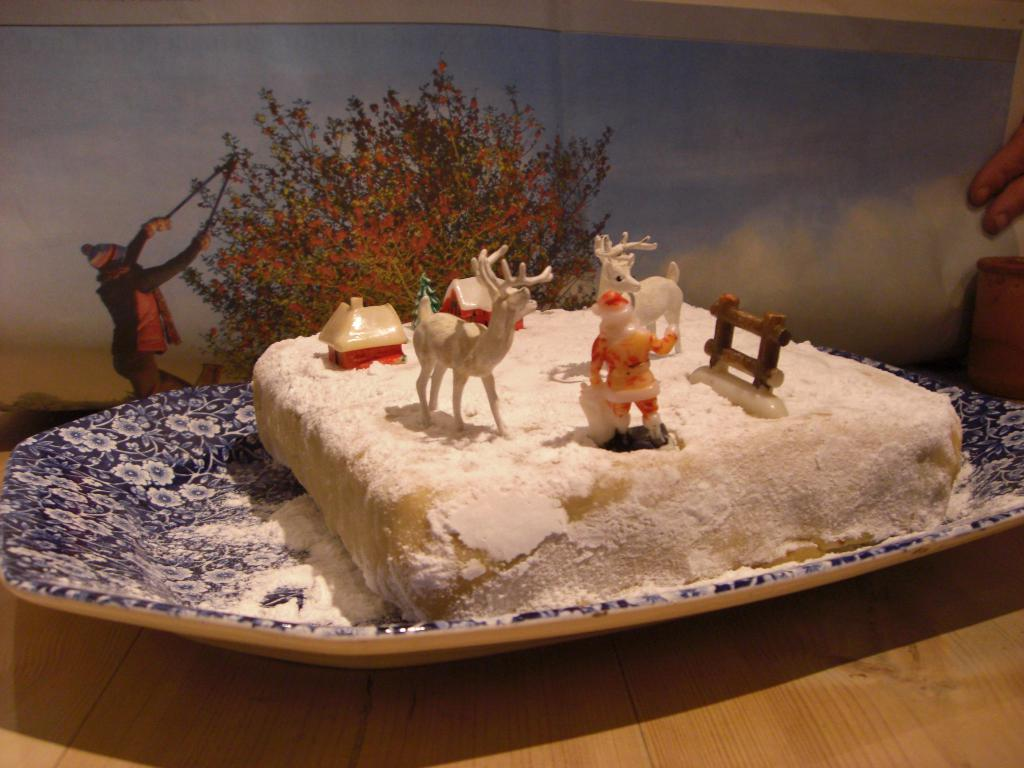cake: (250, 301, 964, 623)
